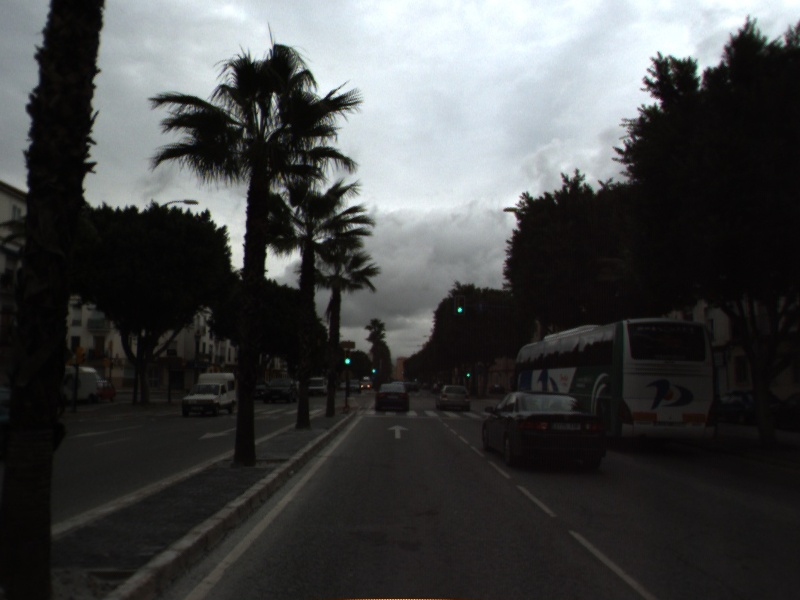STRAIGHT: (385, 423, 411, 441)
